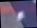Squash-Ball: (1, 0, 37, 28)
